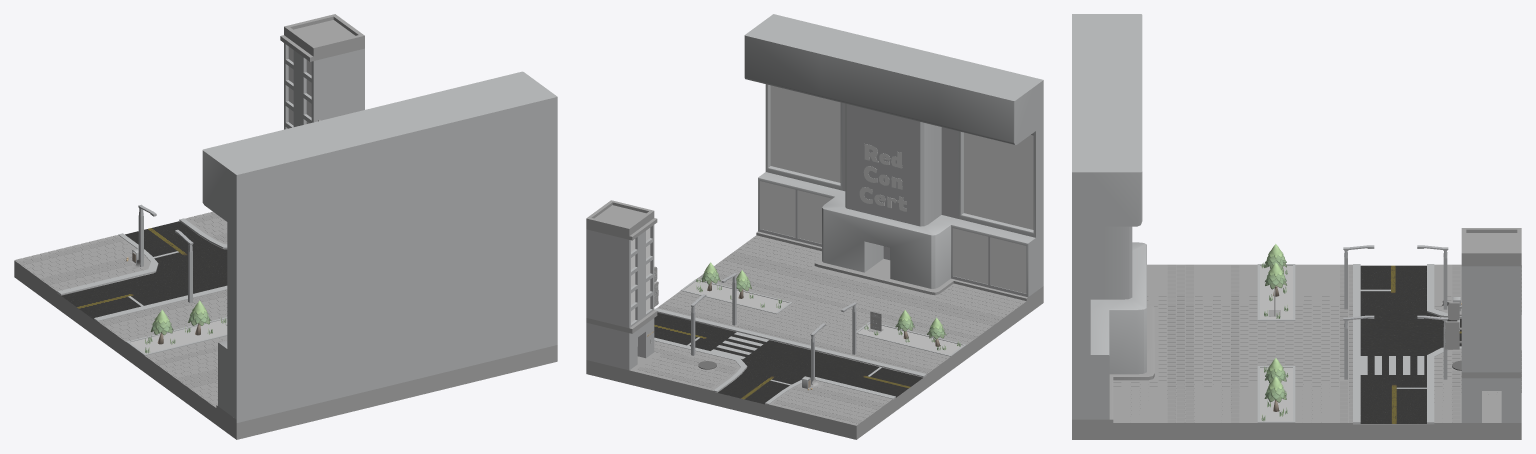
The model's file is tutorial.fbx.
3 views of the same model, side by side, from view 1: azimuth 30°, elevation 25°; view 2: azimuth 150°, elevation 25°; view 3: azimuth 270°, elevation 25° (orthographic). The views are drawn at different scales.
Parts seen in each view (by area): view 1: Concert hall, floor, block, Building, road, Plane.001, Cube.005, Cube.023; view 2: Concert hall, block, floor, Cube.020, Building, road, Cube.044, Cube.005, Plane.001, Cube.003, Text.002, Cube.023 (+3 smaller); view 3: block, Concert hall, floor, Building, road, Cube.005, Plane.001, Cube.023, Cube.003, Cube.154, Cube.010, Cube (+1 smaller).
Boxes of the visible parts, x1,y1,x2,y2 form: Concert hall: (202,71,557,422); floor: (14,212,557,439); block: (16,211,227,407); Building: (280,14,364,129); road: (61,221,227,319); Plane.001: (57,218,227,321); Cube.005: (126,317,227,355); Cube.023: (138,204,193,302); Concert hall: (744,14,1043,297); block: (637,235,1026,425); floor: (586,237,1043,439); Cube.020: (770,85,1033,229); Building: (586,200,657,370); road: (654,313,922,404); Cube.044: (760,181,1026,293); Cube.005: (680,279,966,356); Plane.001: (654,308,926,404); Cube.003: (756,231,1043,301); Text.002: (859,144,906,211); Cube.023: (690,273,856,384); block: (1113,264,1521,422); Concert hall: (1072,14,1146,419); floor: (1072,264,1521,439); Building: (1461,228,1521,422); road: (1360,265,1461,423); Cube.005: (1257,264,1295,422); Plane.001: (1353,264,1461,423); Cube.023: (1343,245,1448,379); Cube.003: (1072,304,1154,422); Cube.154: (1264,244,1286,411); Cube.010: (1265,262,1286,383); Cube: (1360,356,1424,374).
Size of the model in its own units: 5000 by 3941 by 6003.
